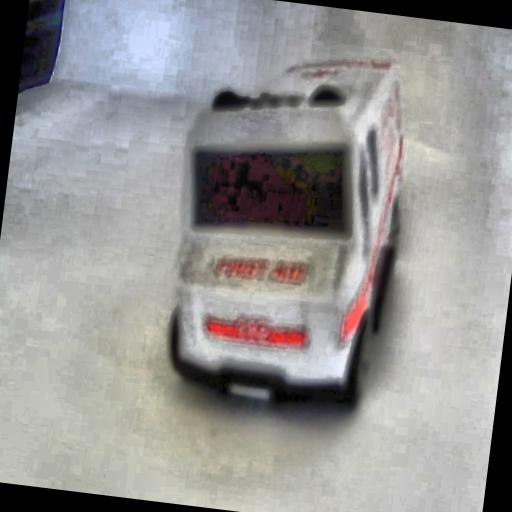ambulance: (156, 36, 420, 418)
